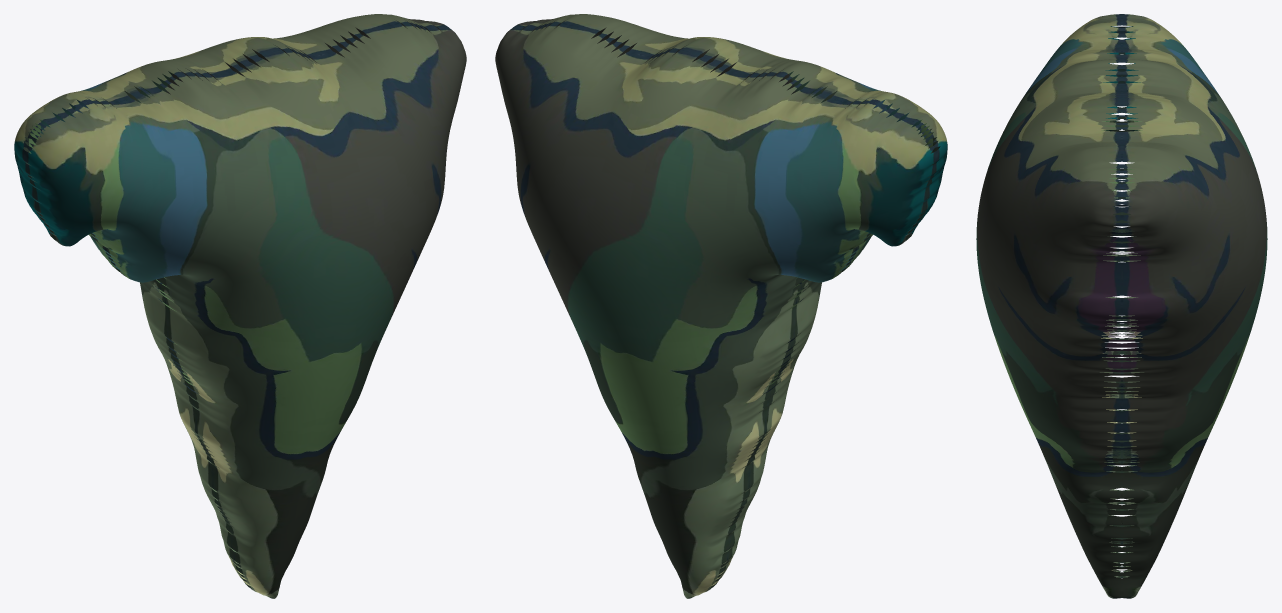
The model's file is olive_cliff.glb.
The picture shows the model from 3 angles, left to right: view 1: azimuth 30°, elevation 25°; view 2: azimuth 150°, elevation 25°; view 3: azimuth 270°, elevation 25°; orthographic projection. The views are drawn at different scales.
Visible parts, largest first — view 1: olive_cliff; view 2: olive_cliff; view 3: olive_cliff.
Part boxes in pixels (<box>): olive_cliff: <box>14,14,466,598</box>; olive_cliff: <box>495,14,947,598</box>; olive_cliff: <box>976,14,1267,598</box>.
Bounding box in the file's own units: 0.9867 × 1.18 × 0.6235.
Materials: 1 (1 with a texture image).
